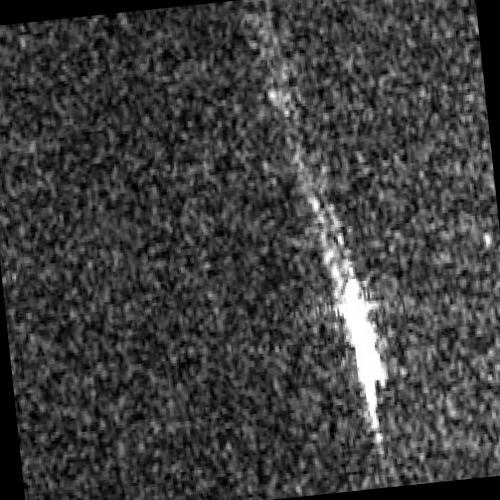ship: (339, 275, 388, 391)
